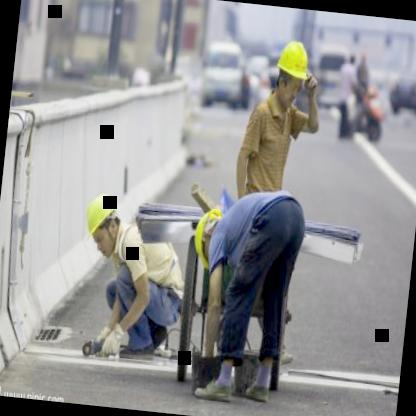helmet: (78, 192, 123, 260), (271, 36, 311, 108), (187, 205, 227, 269)
